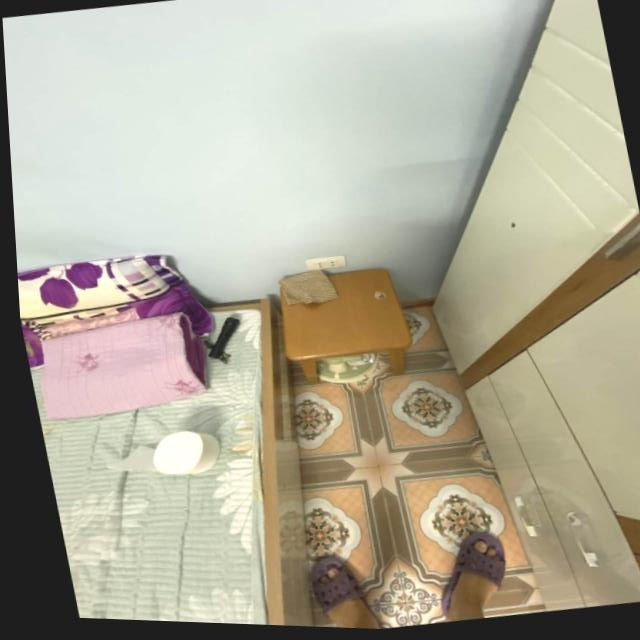outlet: (305, 254, 348, 273)
